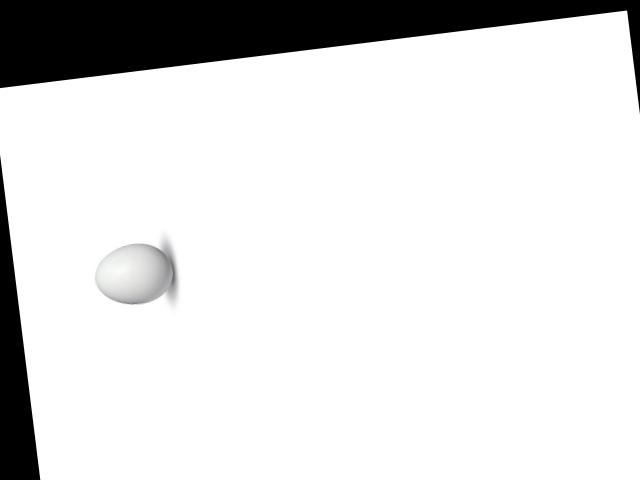egg: (90, 239, 175, 307)
